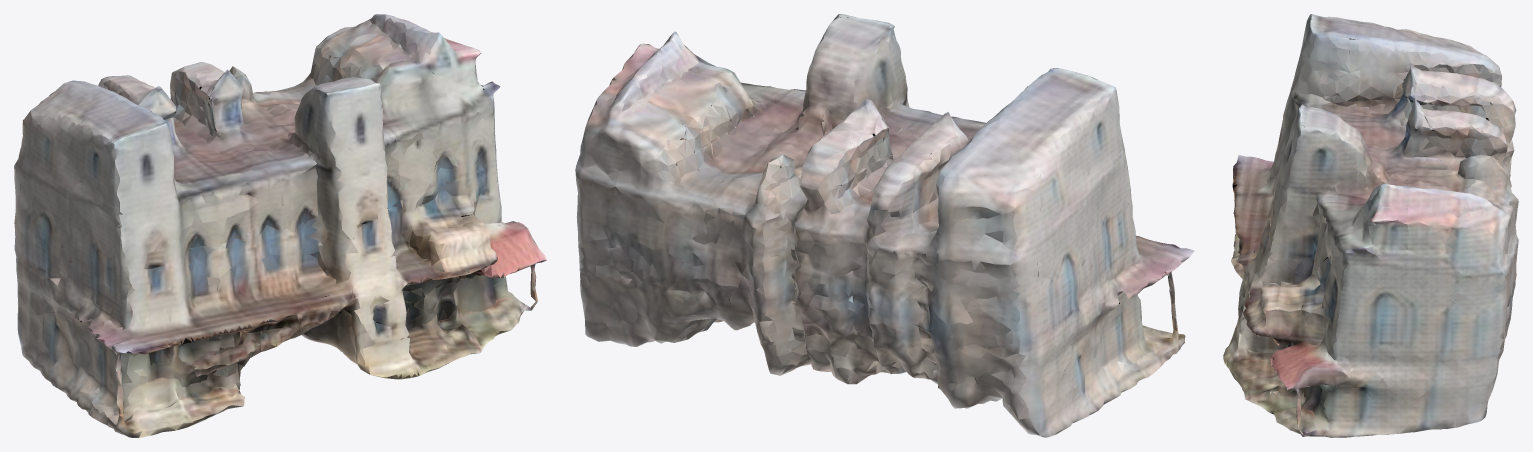
File: derring_flooded.glb
3 views of the same model, side by side, from view 1: azimuth 30°, elevation 25°; view 2: azimuth 150°, elevation 25°; view 3: azimuth 270°, elevation 25° (orthographic). The views are drawn at different scales.
Visible parts, largest first — view 1: geometry_0; view 2: geometry_0; view 3: geometry_0.
Boxes of the visible parts, left/top/right/bottom form: geometry_0: left=14, top=14, right=546, bottom=437; geometry_0: left=575, top=14, right=1194, bottom=437; geometry_0: left=1223, top=14, right=1518, bottom=437.
Size of the model in its own units: 130 by 74.88 by 80.53.
Materials: 1 (1 with a texture image).
